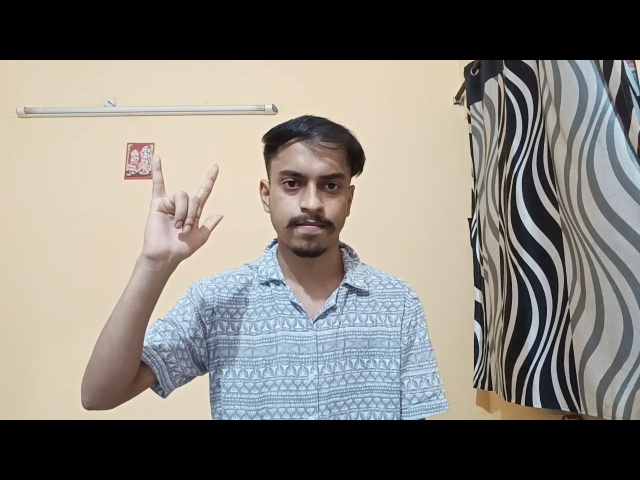ILoveyou: (141, 154, 234, 268)
